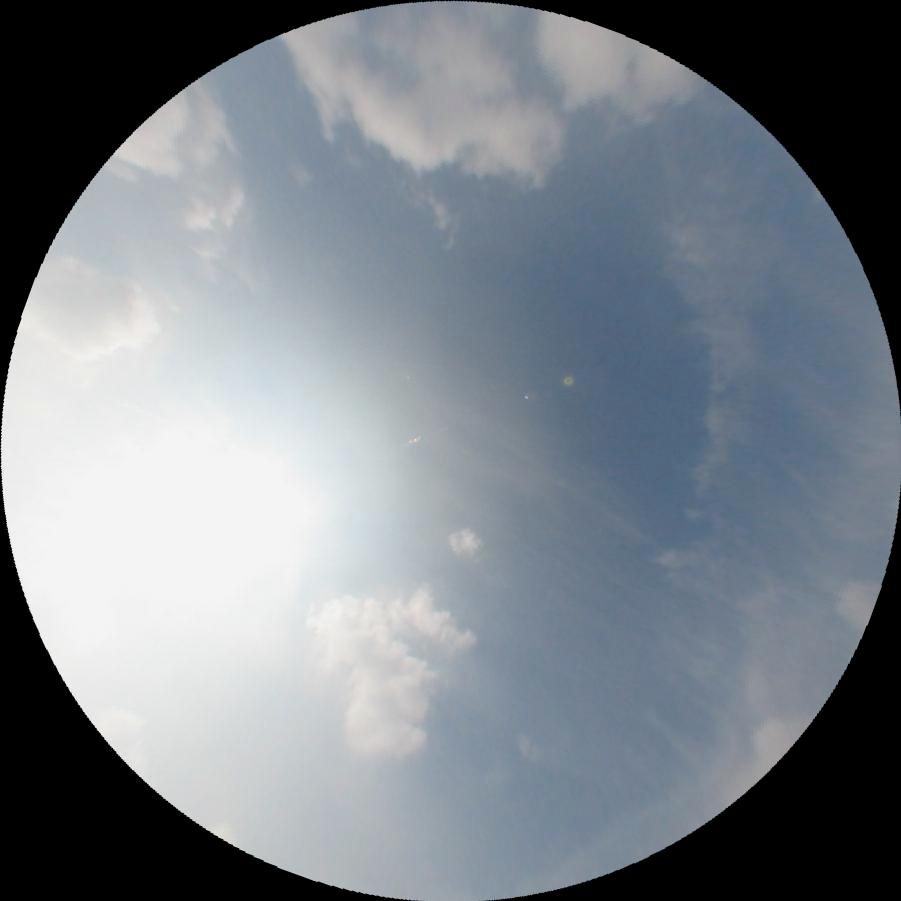sun: (107, 417, 329, 653)
